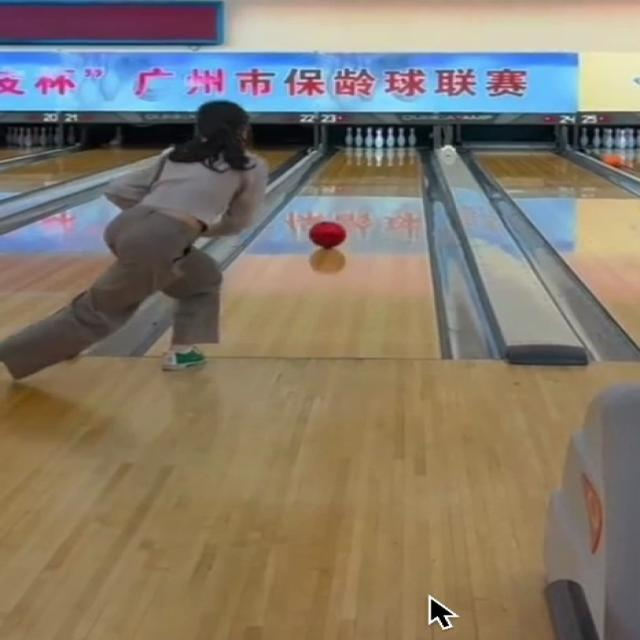alley: (216, 150, 435, 359)
balls: (309, 222, 345, 249)
bottle: (342, 125, 416, 152)
